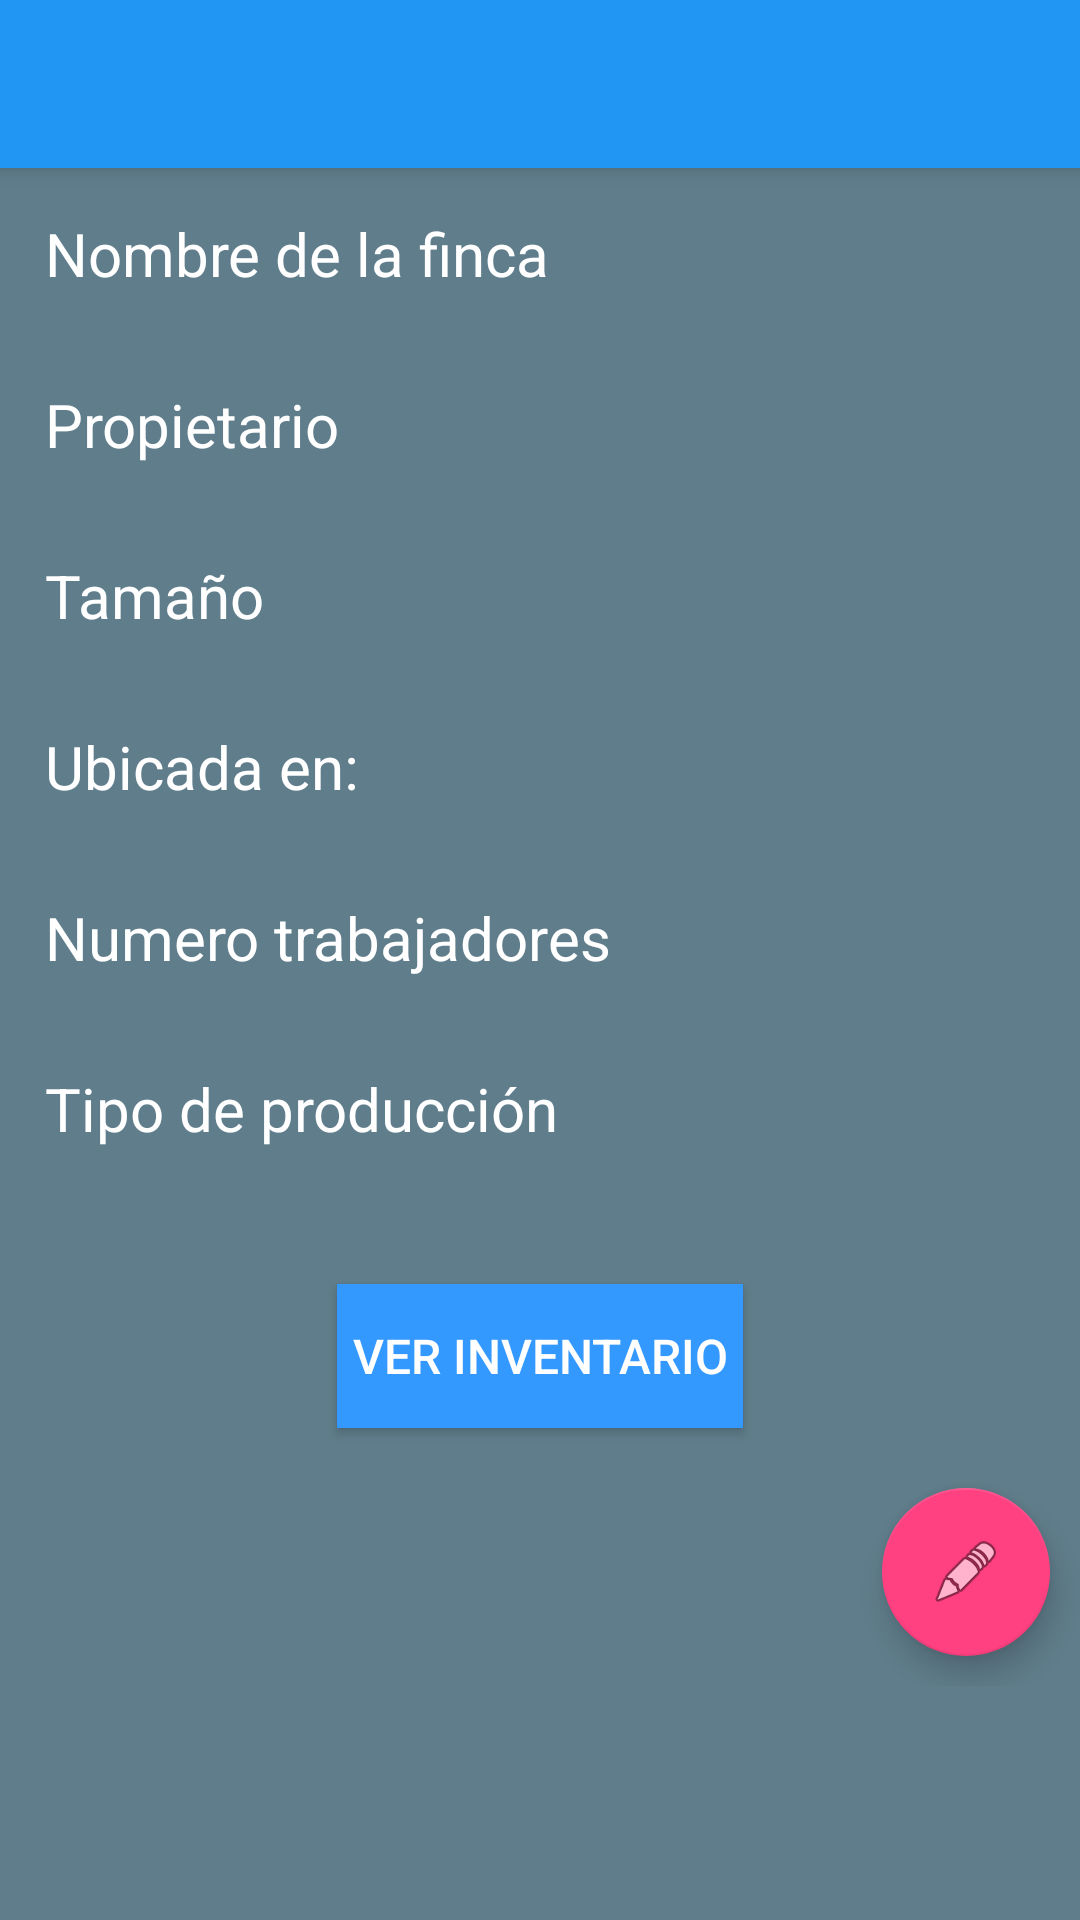

Icons on this 1080 × 1920 Android screen, each with the point to tap as (x=x, y=y):
edit: (x=966, y=1572)
